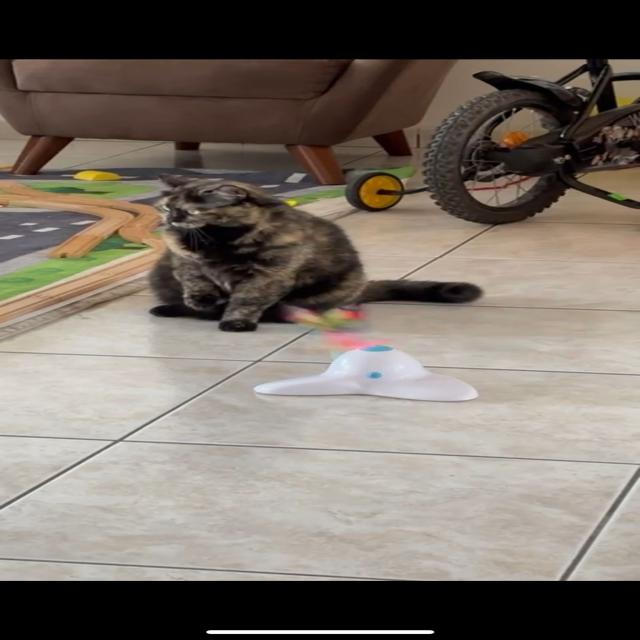authorized: (145, 172, 483, 333)
